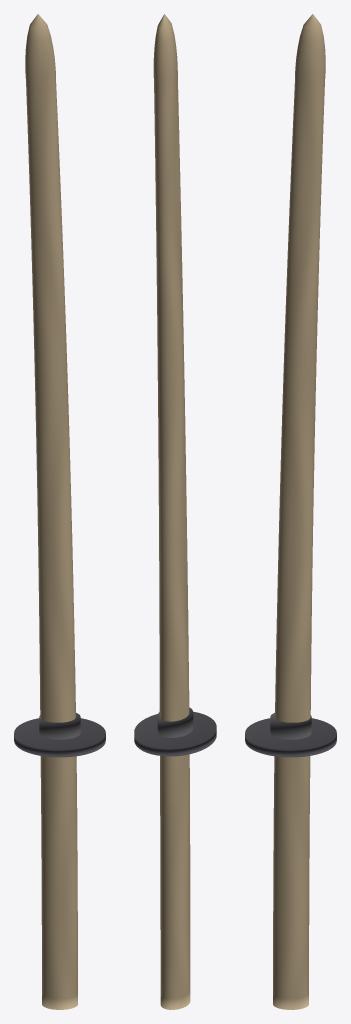
The model's file is bokken.glb.
3 renders of one model, left to right at view 1: azimuth 90°, elevation 25°; view 2: azimuth 150°, elevation 25°; view 3: azimuth 270°, elevation 25°, orthographic.
Parts seen in each view (by area): view 1: Bokken; view 2: Bokken; view 3: Bokken.
Part boxes in pixels (x1=…): Bokken: x1=14, y1=14, x2=105, y2=1009; Bokken: x1=134, y1=14, x2=216, y2=1009; Bokken: x1=245, y1=14, x2=336, y2=1009.
Size of the model in its own units: 0.072 by 1 by 0.084.
